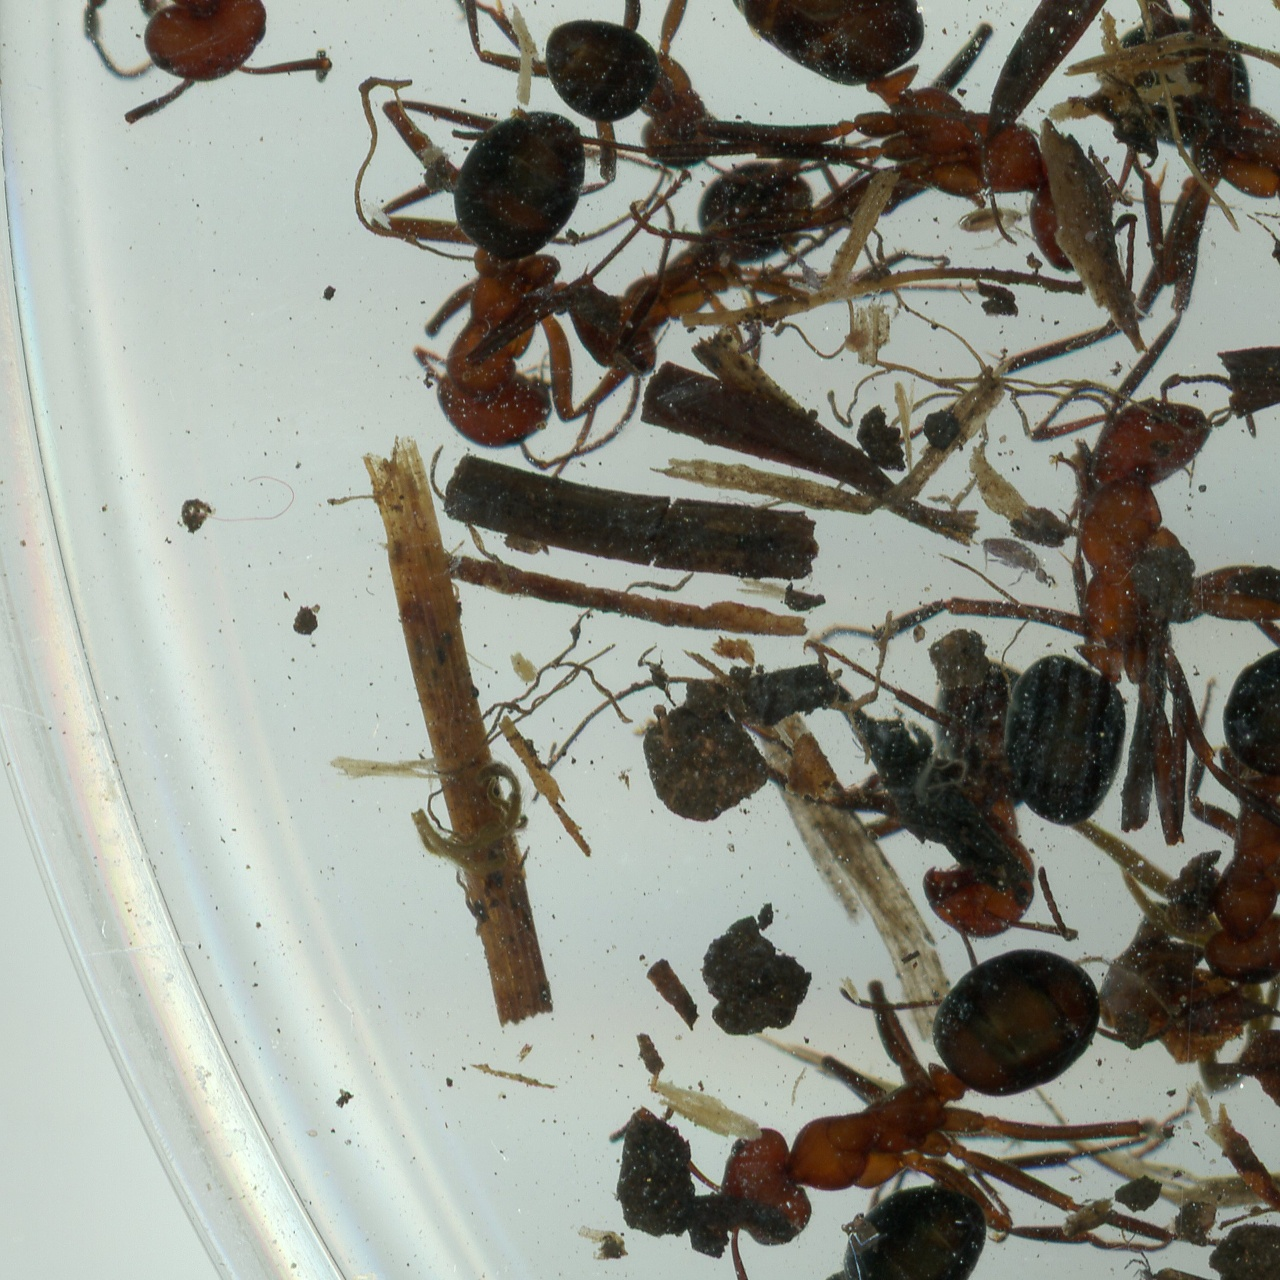arthropod: (578, 869, 1201, 1280), (797, 0, 1280, 431), (768, 637, 1134, 1029), (345, 64, 695, 473), (996, 360, 1280, 827), (704, 0, 1135, 303), (556, 156, 826, 432), (426, 0, 731, 234), (644, 1133, 1122, 1280), (1105, 621, 1280, 992), (0, 0, 482, 132), (949, 189, 1038, 253), (976, 530, 1063, 593), (787, 244, 831, 294), (1097, 1246, 1160, 1280), (734, 309, 767, 358)
